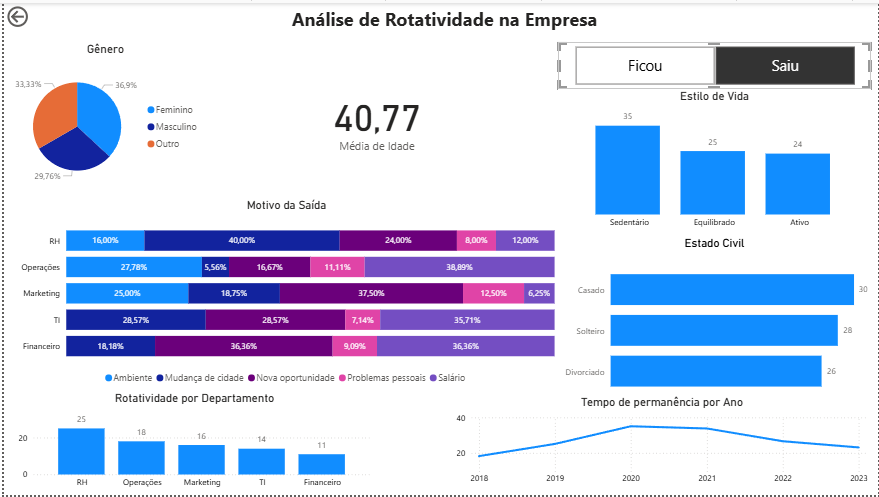

Layout of this report page (visuals, bound fields, positions):
{"tool":"powerbi","page":{"name":"Página 1","canvas":[1280,720],"ordinal":0},"visuals":[{"type":"card","title":"Média de Idade","fields":{"Values":["Avg(rotatividade_funcionarios.Idade)"]},"box":[405.4,57.1,281,228.3],"z":0},{"type":"pieChart","title":"Gênero ","fields":{"Series":["rotatividade_funcionarios.Gênero"],"Y":["CountNonNull(rotatividade_funcionarios.Ficou ou Saiu)"]},"box":[0,57.1,297.1,228.3],"z":1000},{"type":"slicer","fields":{"Values":["rotatividade_funcionarios.Ficou ou Saiu"]},"box":[810.7,57.1,458,68.8],"z":2000},{"type":"columnChart","title":"Estilo de Vida","fields":{"Category":["rotatividade_funcionarios.Estilo de Vida"],"Y":["CountNonNull(rotatividade_funcionarios.Ficou ou Saiu)"]},"box":[810.7,125.9,458,213.7],"z":3000},{"type":"textbox","box":[16.1,0,1264.4,57.1],"z":4000},{"type":"barChart","title":"Estado Civil","fields":{"Category":["rotatividade_funcionarios.Estado Civil"],"Y":["CountNonNull(rotatividade_funcionarios.Ficou ou Saiu)"]},"box":[810.7,341,458,251.7],"z":5000},{"type":"hundredPercentStackedBarChart","title":"Motivo da Saída","fields":{"Series":["rotatividade_funcionarios.Motivo da Saída"],"Category":["rotatividade_funcionarios.Departamento"],"Y":["CountNonNull(rotatividade_funcionarios.Motivo da Saída)"]},"box":[16.1,285.4,794.6,282.4],"z":6000},{"type":"actionButton","box":[0,0,100,40],"z":7000},{"type":"columnChart","title":"Rotatividade por Departamento","fields":{"Category":["rotatividade_funcionarios.Departamento"],"Y":["CountNonNull(rotatividade_funcionarios.Ficou ou Saiu)"]},"box":[16.1,567.8,525.4,152.2],"z":8000},{"type":"lineChart","title":"Tempo de permanência por Ano","fields":{"Y":["rotatividade_funcionarios.Media de tempo de permanencia"],"Category":["rotatividade_funcionarios.Data de Admissão.Variation.Hierarquia de datas.Ano"]},"box":[657.1,573.7,611.7,140.5],"z":9000}]}

Visuals, with their boxes in screenshot pixels (x1, y1, x2, y2), scaled from the page's 1280x720 canvas onto the 879x497 screenshot:
"Média de Idade" card: select_region(278, 39, 471, 197)
"Gênero " pieChart: select_region(0, 39, 204, 197)
slicer - rotatividade_funcionarios.Ficou ou Saiu: select_region(557, 39, 871, 87)
"Estilo de Vida" columnChart: select_region(557, 87, 871, 234)
textbox: select_region(11, 0, 878, 39)
"Estado Civil" barChart: select_region(557, 235, 871, 409)
"Motivo da Saída" hundredPercentStackedBarChart: select_region(11, 197, 557, 392)
actionButton: select_region(0, 0, 69, 28)
"Rotatividade por Departamento" columnChart: select_region(11, 392, 372, 496)
"Tempo de permanência por Ano" lineChart: select_region(451, 396, 871, 493)
